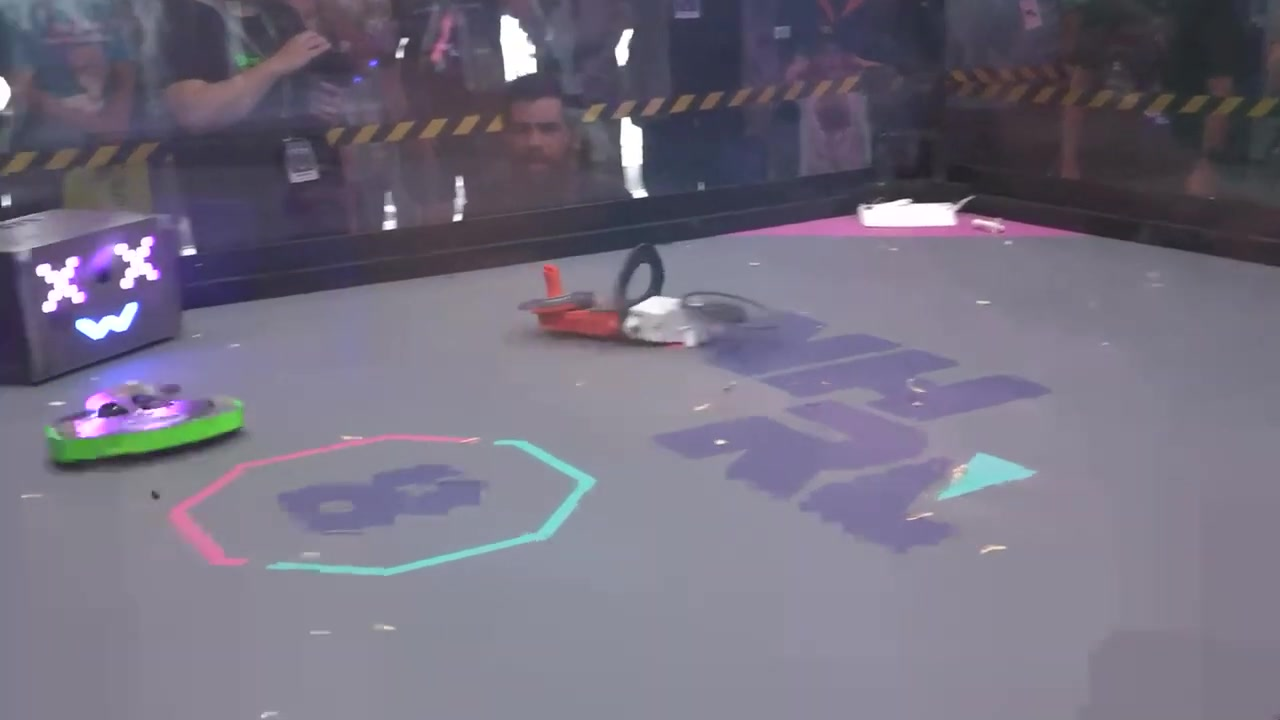combatbot: (517, 241, 787, 350), (43, 382, 250, 470)
housebot: (0, 205, 184, 384)
